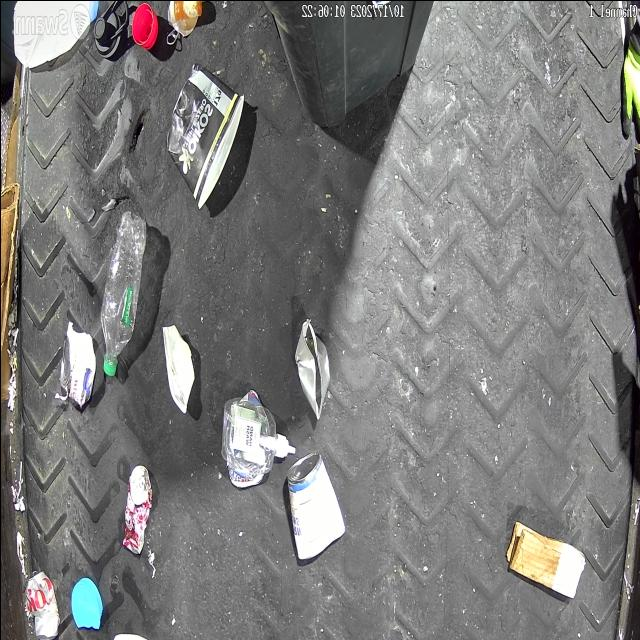can: (284, 450, 346, 560), (294, 317, 329, 419), (120, 464, 152, 554), (21, 567, 58, 640), (60, 328, 94, 405)
milk_jug: (12, 0, 98, 68)
plastic_bottle: (100, 210, 146, 376)
